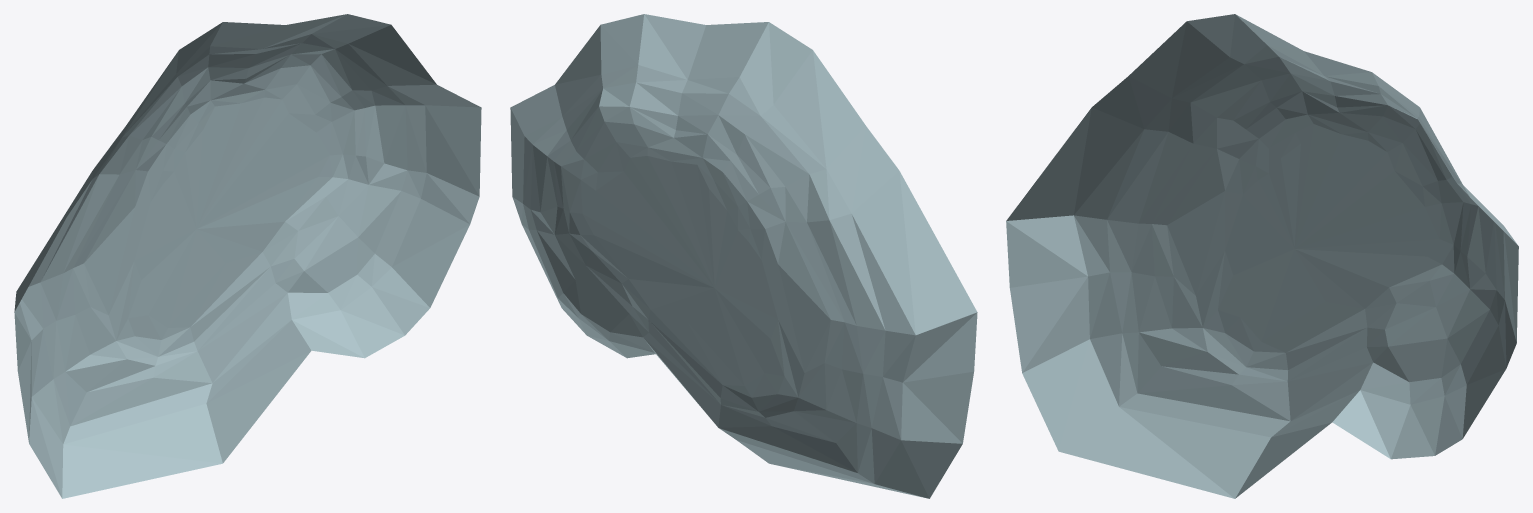
File: ìce_land_1.FBX
3 views of the same model, side by side, from view 1: azimuth 30°, elevation 25°; view 2: azimuth 150°, elevation 25°; view 3: azimuth 330°, elevation 25° (orthographic). The views are drawn at different scales.
Parts seen in each view (by area): view 1: Icosphere.010; view 2: Icosphere.010; view 3: Icosphere.010.
Part boxes in pixels (x1,y1,x2,y2): Icosphere.010: [14, 14, 481, 498]; Icosphere.010: [510, 14, 977, 498]; Icosphere.010: [1006, 14, 1518, 498].
Bounding box in the file's own units: 2747 × 2482 × 410.
